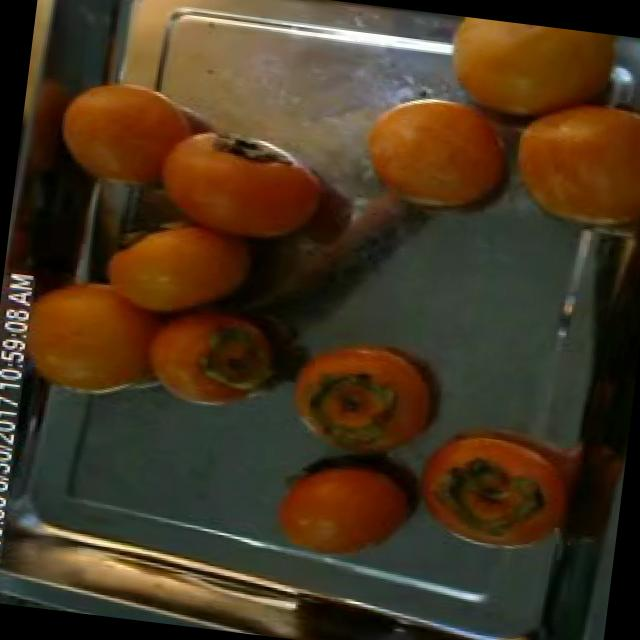Fruit: (386, 387, 608, 575), (263, 316, 463, 478), (480, 64, 640, 256), (420, 11, 640, 146), (78, 193, 278, 339), (249, 432, 431, 576), (134, 281, 305, 429), (38, 61, 206, 206), (512, 519, 616, 640)
